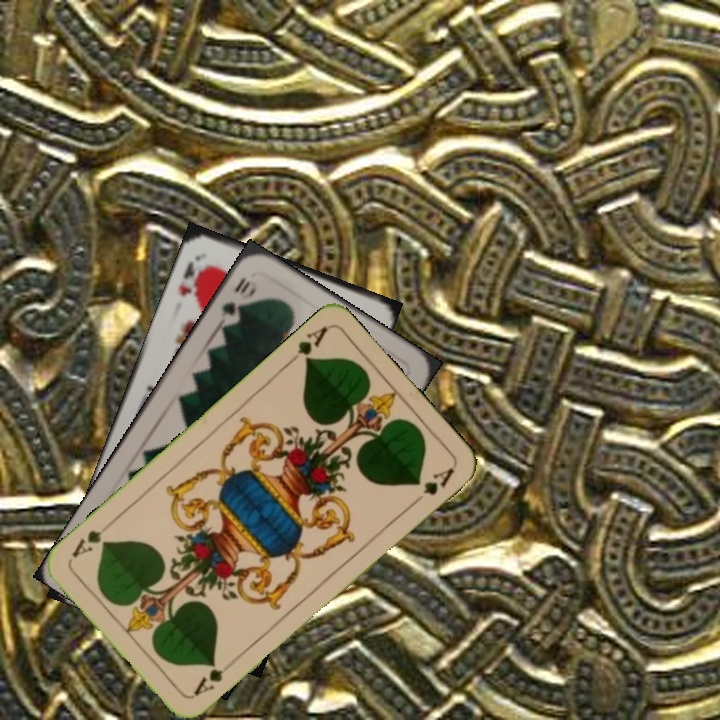G10: (216, 273, 258, 321)
GA: (282, 323, 331, 368), (189, 655, 238, 699)
HK: (174, 251, 210, 299)
